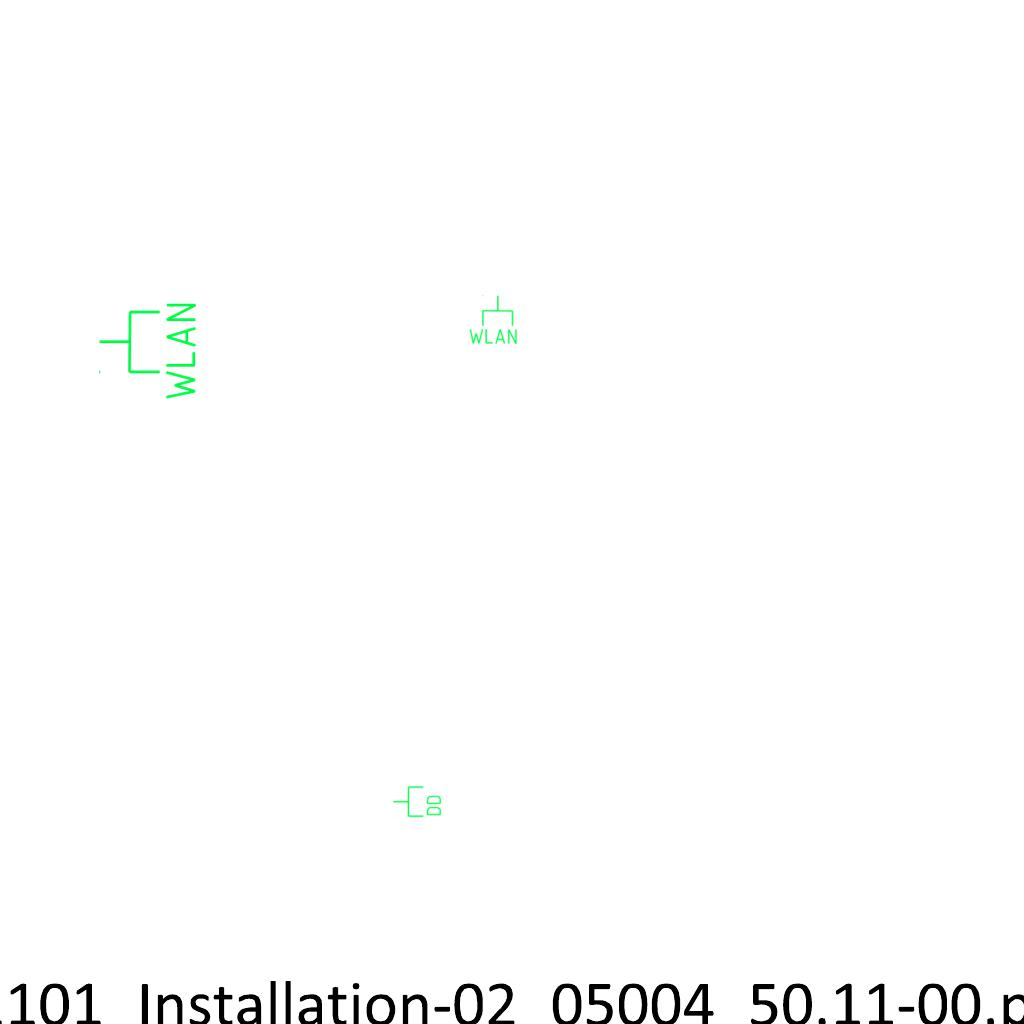Datenanschluss_zweifach: (392, 785, 443, 819)
WLAN: (96, 299, 200, 404), (467, 294, 519, 346)
